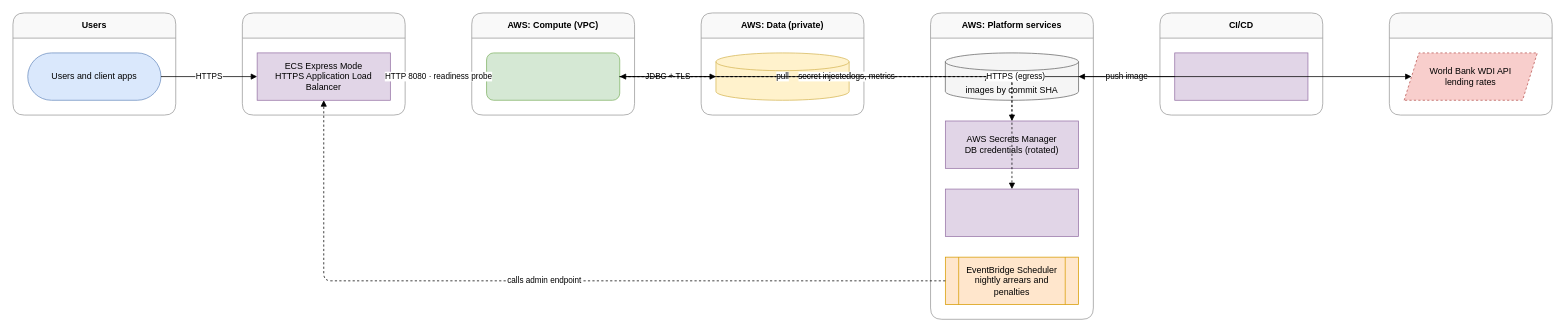
The diagram is 1565 pixels wide and 332 high, and some of its shapes have lost their labels. The box of each missing label's shape, as (x1, y1, x2, y2) in pixels:
Amazon RDS PostgreSQL 17 private subnets · backups · Multi-AZ in prod: (715, 52, 849, 100)
AWS: Edge: (242, 12, 405, 115)
CloudWatch logs · metrics · alarms: (945, 188, 1079, 236)
ECS Fargate service loan-amortisation-service 0.5–1 vCPU / 1–2 GB, 1–2 tasks: (486, 52, 620, 100)
External systems: (1389, 12, 1552, 115)
GitHub Actions / CodePipeline (OIDC, no stored keys): (1174, 52, 1308, 100)
